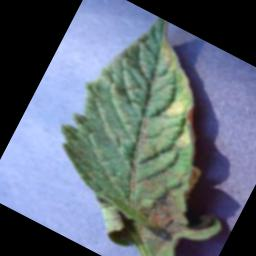Leaf_Mold: (134, 38, 223, 127), (173, 126, 199, 152)
